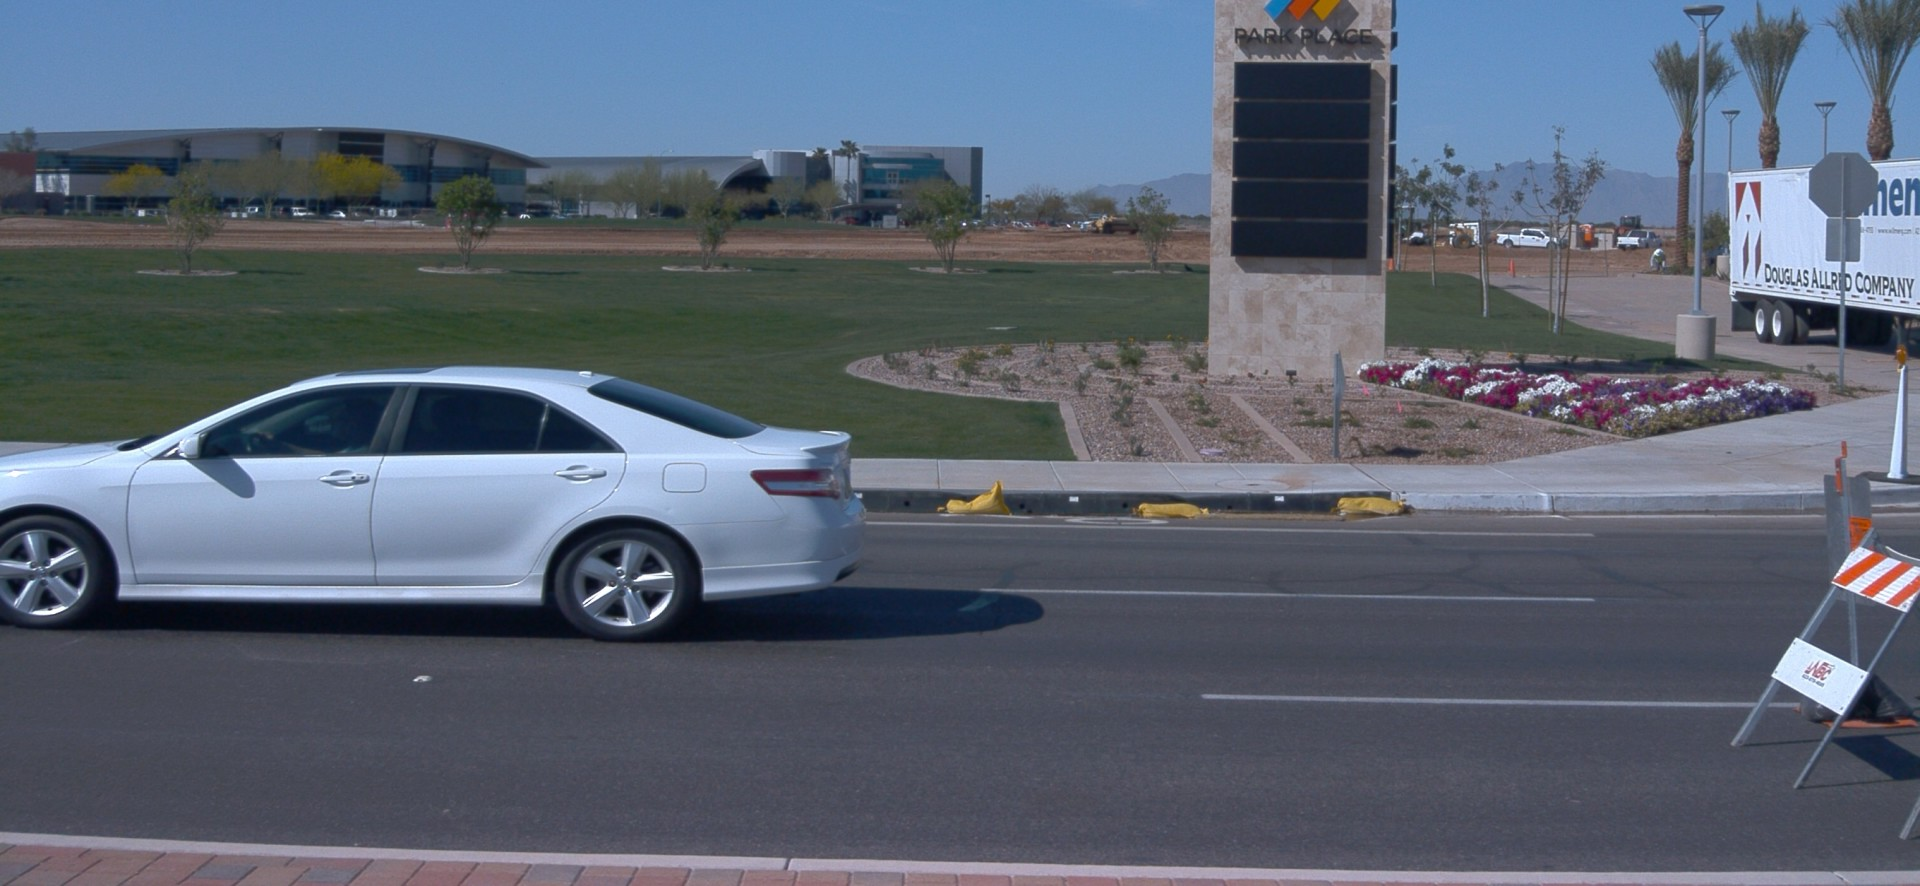TYPE_PEDESTRIAN: (1649, 247, 1668, 273)
TYPE_VEHICLE: (0, 356, 871, 646), (1723, 155, 1920, 345), (1399, 201, 1476, 250), (1496, 228, 1566, 251), (1081, 215, 1144, 236), (1615, 233, 1662, 254), (1706, 235, 1730, 275), (1452, 222, 1485, 249), (1612, 217, 1646, 240), (1400, 225, 1424, 244), (1080, 216, 1101, 235), (1685, 229, 1708, 242), (288, 206, 312, 217), (224, 206, 244, 217), (241, 207, 260, 218), (327, 211, 346, 216), (518, 212, 529, 217)
